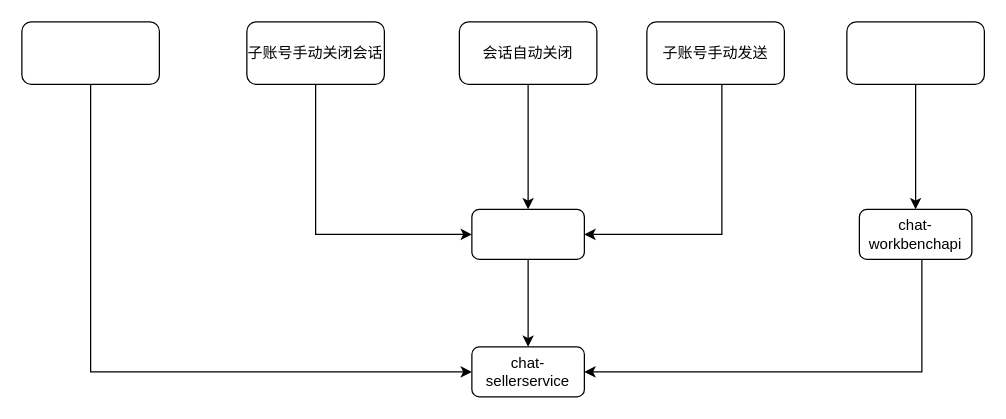
Some shapes in this 1006 by 419 pixel diagram are drawn without their labels. Here are the shapes that lost their labels. From the top down, the centre of each, then its label:
point 90,52: 系统自动发送
point 915,52: buyer手动发送
point 527,233: chat-coreapi
